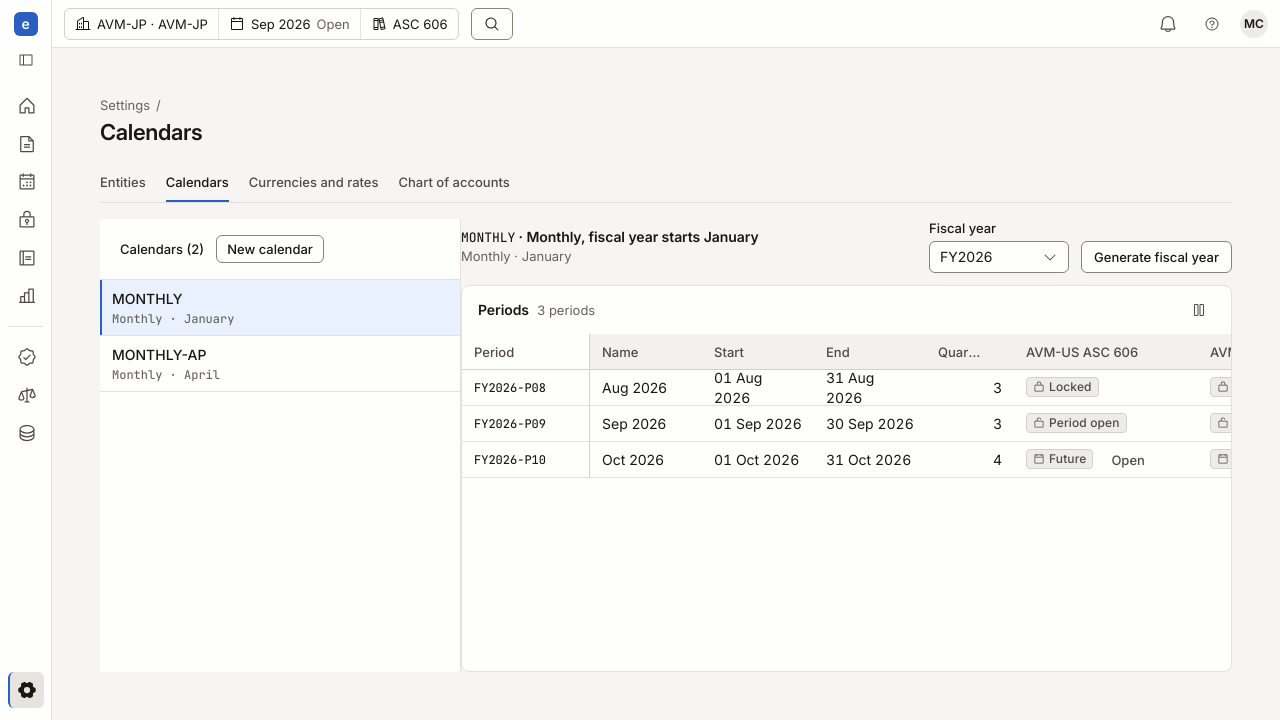
SF-15:calendars › open action names period entity and book
Check: the element showing "FY2026-P09" is shown, box [462,406,590,441]
Check: the text "Sep 2026" next to "FY2026-P09" is shown, box [602,414,666,432]
Click the button with aria-label "Open Oct 2026 for AVM-US ASC 606".
click(1128, 460)  # box [1101,446,1155,474]
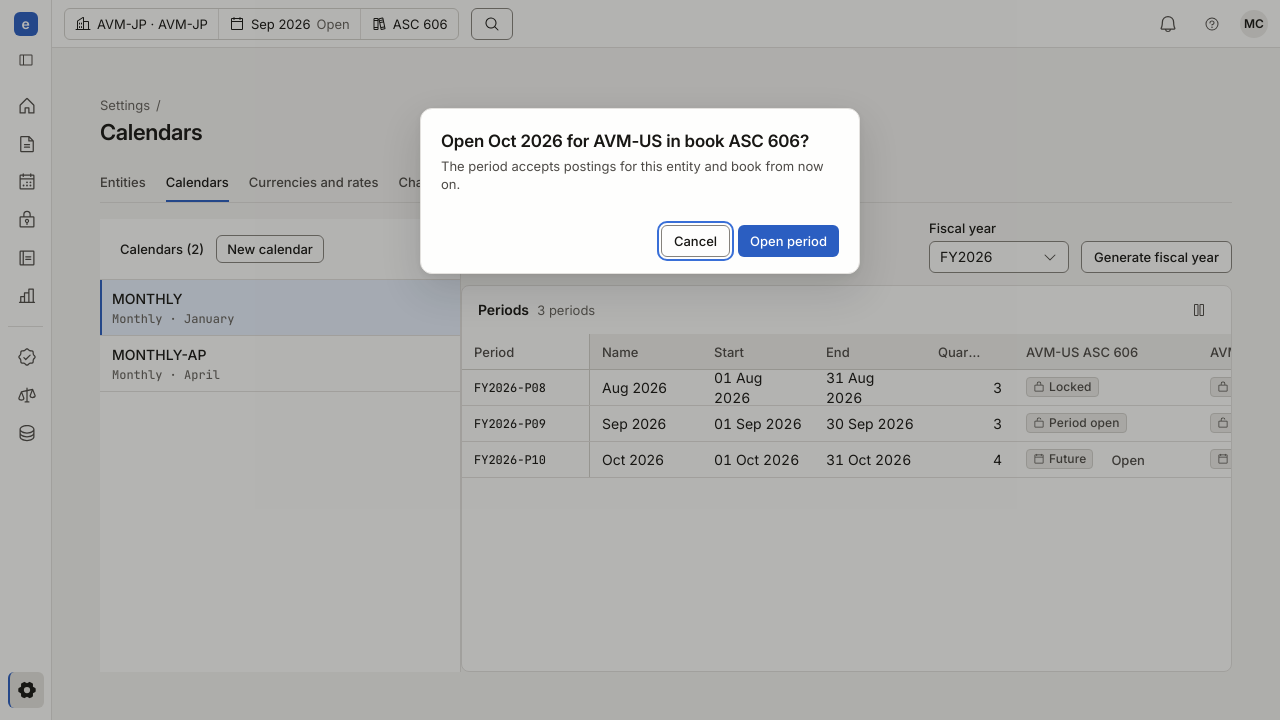
Click the button "Open period".
click(789, 241)  # box [738,225,839,257]
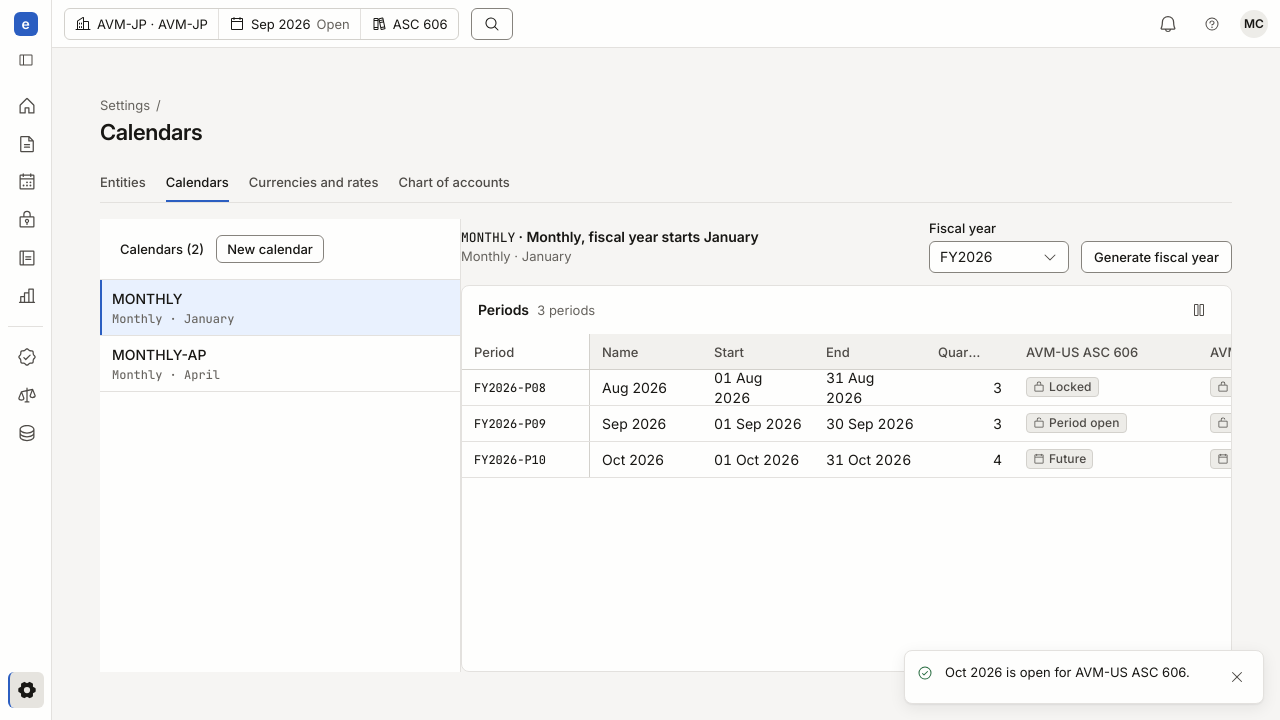
Check: the text "Oct 2026 is open for AVM-US ASC 606." is shown, box [945,663,1190,681]
